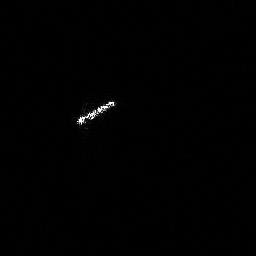ship: (77, 100, 115, 125)
